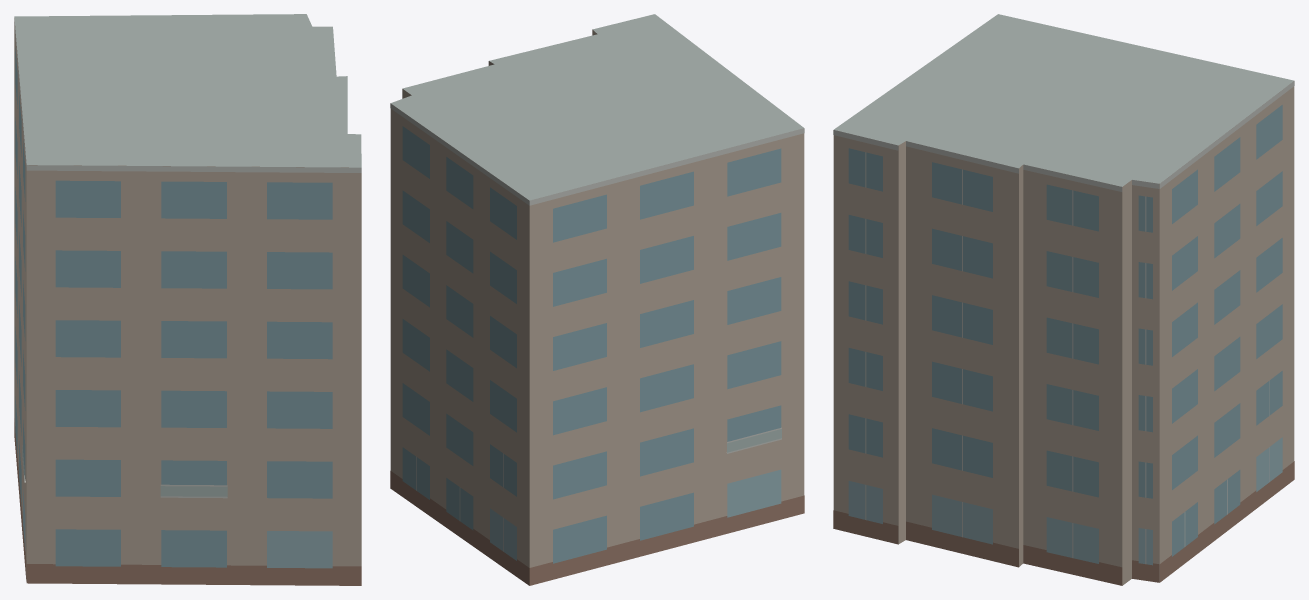
File: survey-upis-32954303.glb
3 renders of one model, left to right at view 1: azimuth 30°, elevation 25°; view 2: azimuth 150°, elevation 25°; view 3: azimuth 270°, elevation 25°, orthographic. The views are drawn at different scales.
Visible parts, largest first — view 1: survey-upis-32954303.tmp; view 2: survey-upis-32954303.tmp; view 3: survey-upis-32954303.tmp.
Boxes of the visible parts, x1,y1,x2,y2 form: survey-upis-32954303.tmp: (14,14,361,585); survey-upis-32954303.tmp: (390,14,804,585); survey-upis-32954303.tmp: (833,14,1294,585).
Size of the model in its own units: 17.11 by 18.4 by 19.28.
